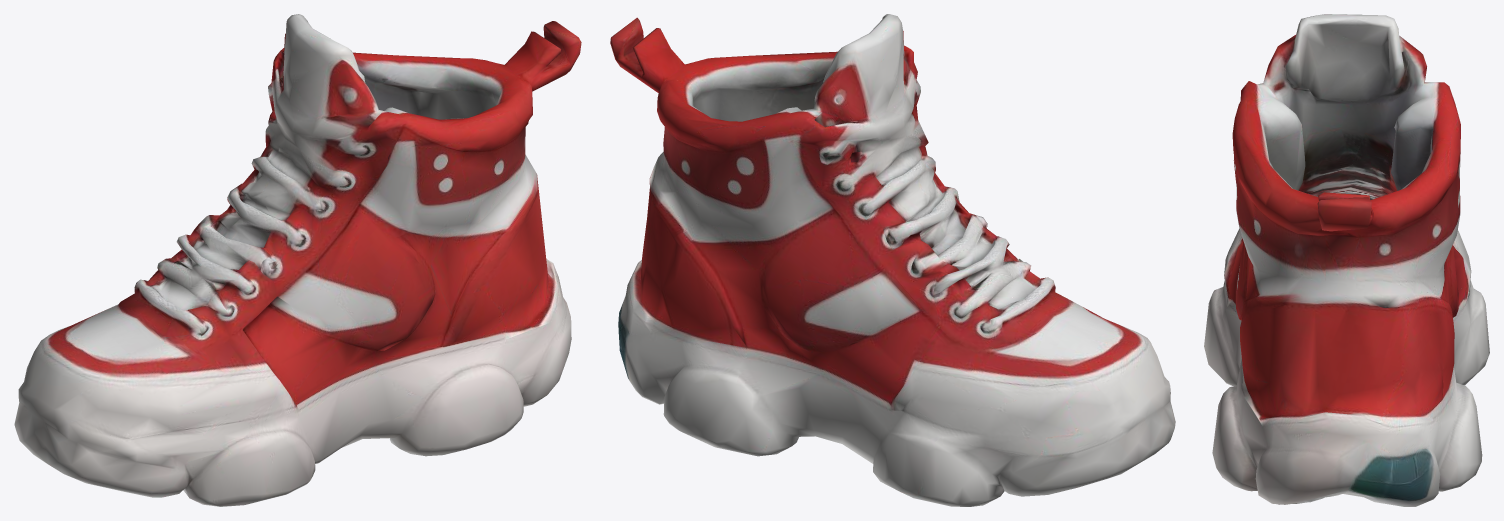
Rendered from sneaker.glb.
3 renders of one model, left to right at view 1: azimuth 30°, elevation 25°; view 2: azimuth 150°, elevation 25°; view 3: azimuth 270°, elevation 25°, orthographic.
Parts seen in each view (by area): view 1: Mesh_0; view 2: Mesh_0; view 3: Mesh_0.
Boxes of the visible parts, x1,y1,x2,y2 form: Mesh_0: [14, 14, 581, 506]; Mesh_0: [610, 14, 1175, 506]; Mesh_0: [1204, 14, 1489, 506].
Size of the model in its own units: 2 by 1.43 by 0.9087.
Materials: 1 (1 with a texture image).
